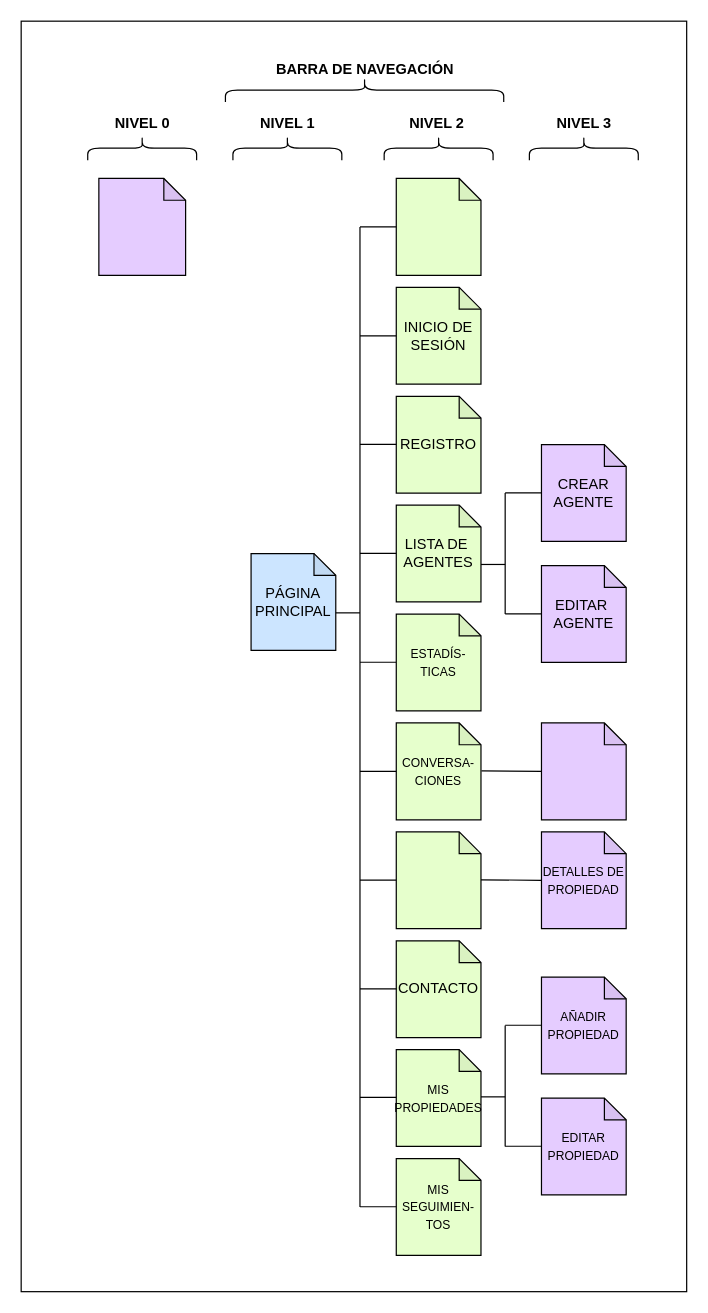
This 708x1313 diagram has some shape labels left out. Here are the shapes that lost their labels. From the top down, the centre of each, then its label:
At point (142, 226): "RECUPERAR CONTRASEÑA".
At point (438, 226): "EDITAR PERFIL".
At point (583, 771): "CHAT".
At point (438, 880): "PROPIEDADES DISPONIBLES".
